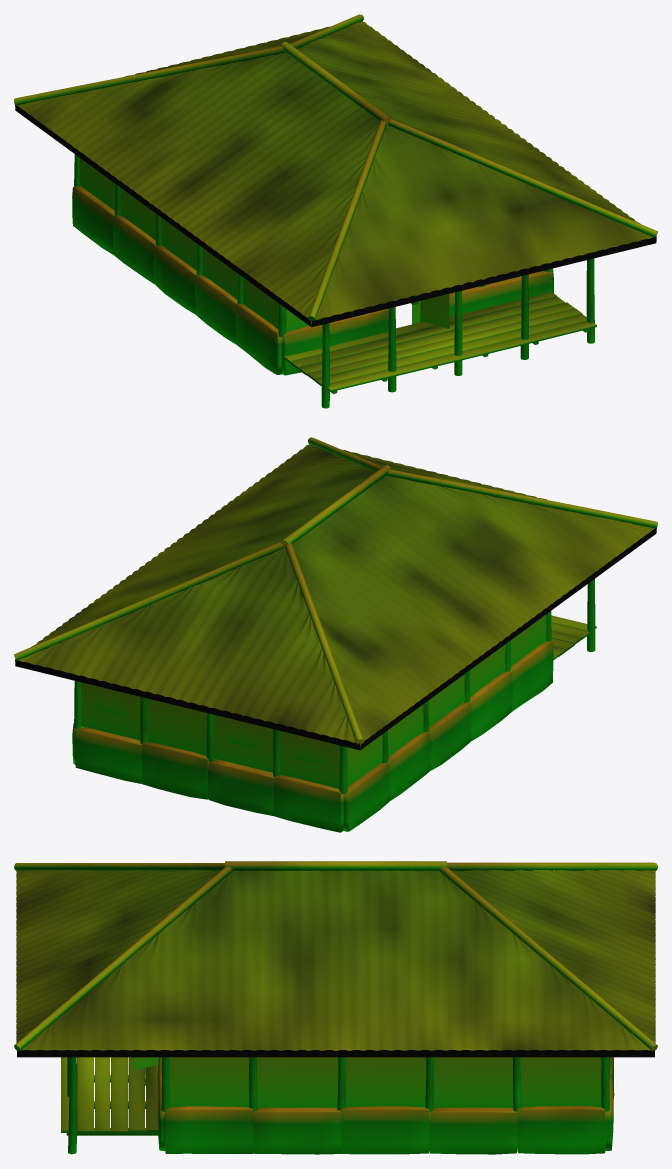
The model's file is house_tile_c.glb.
3 views of the same model, one above another, from view 1: azimuth 30°, elevation 25°; view 2: azimuth 150°, elevation 25°; view 3: azimuth 270°, elevation 25° (orthographic). The views are drawn at different scales.
Parts seen in each view (by area): view 1: house_tile_c; view 2: house_tile_c; view 3: house_tile_c.
Part boxes in pixels (<box>): house_tile_c: <box>14,14,657,408</box>; house_tile_c: <box>14,437,657,832</box>; house_tile_c: <box>14,861,657,1154</box>.
Size of what is drawn, in the model's own units: 7.91 by 4.45 by 11.71.
